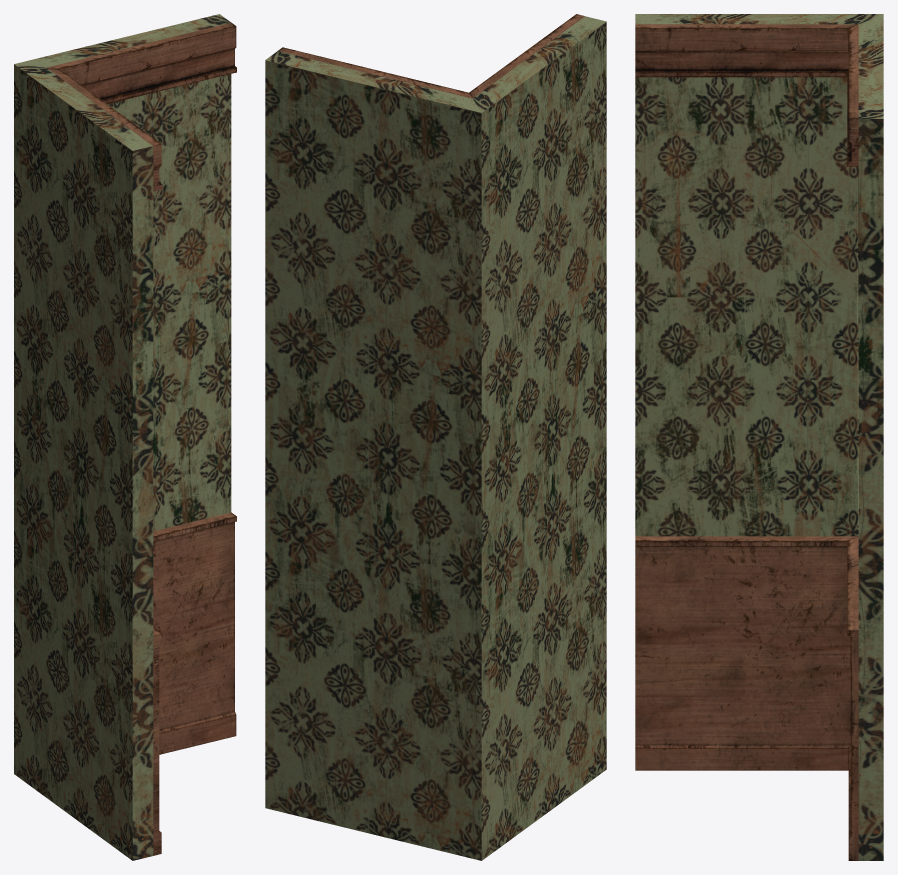
File: Wall_CornerIn_1m_A.fbx
3 views of the same model, side by side, from view 1: azimuth 30°, elevation 25°; view 2: azimuth 150°, elevation 25°; view 3: azimuth 270°, elevation 25° (orthographic). The views are drawn at different scales.
Parts seen in each view (by area): view 1: Wall_CornerIn_1m_A; view 2: Wall_CornerIn_1m_A; view 3: Wall_CornerIn_1m_A.
Boxes of the visible parts, x1,y1,x2,y2 form: Wall_CornerIn_1m_A: (14, 14, 236, 860); Wall_CornerIn_1m_A: (265, 14, 606, 860); Wall_CornerIn_1m_A: (635, 14, 883, 860).
Bounding box in the file's own units: 1 × 1 × 3.3.
Materials: 2 (2 with a texture image).
